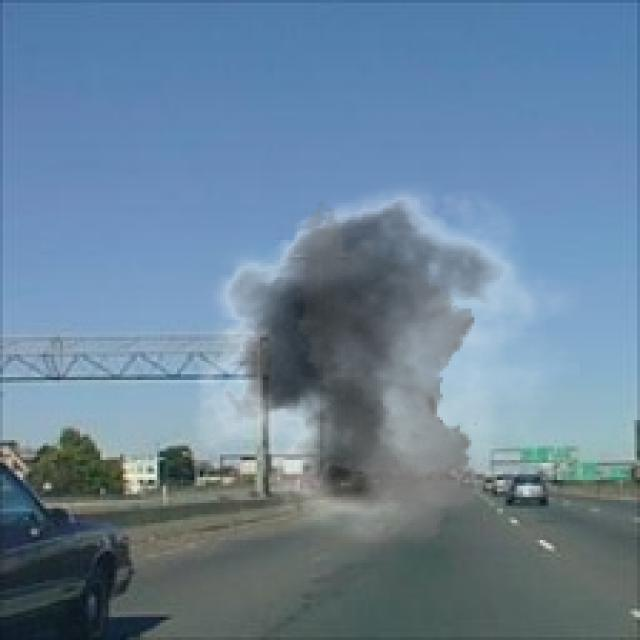smoke: (174, 168, 583, 543)
